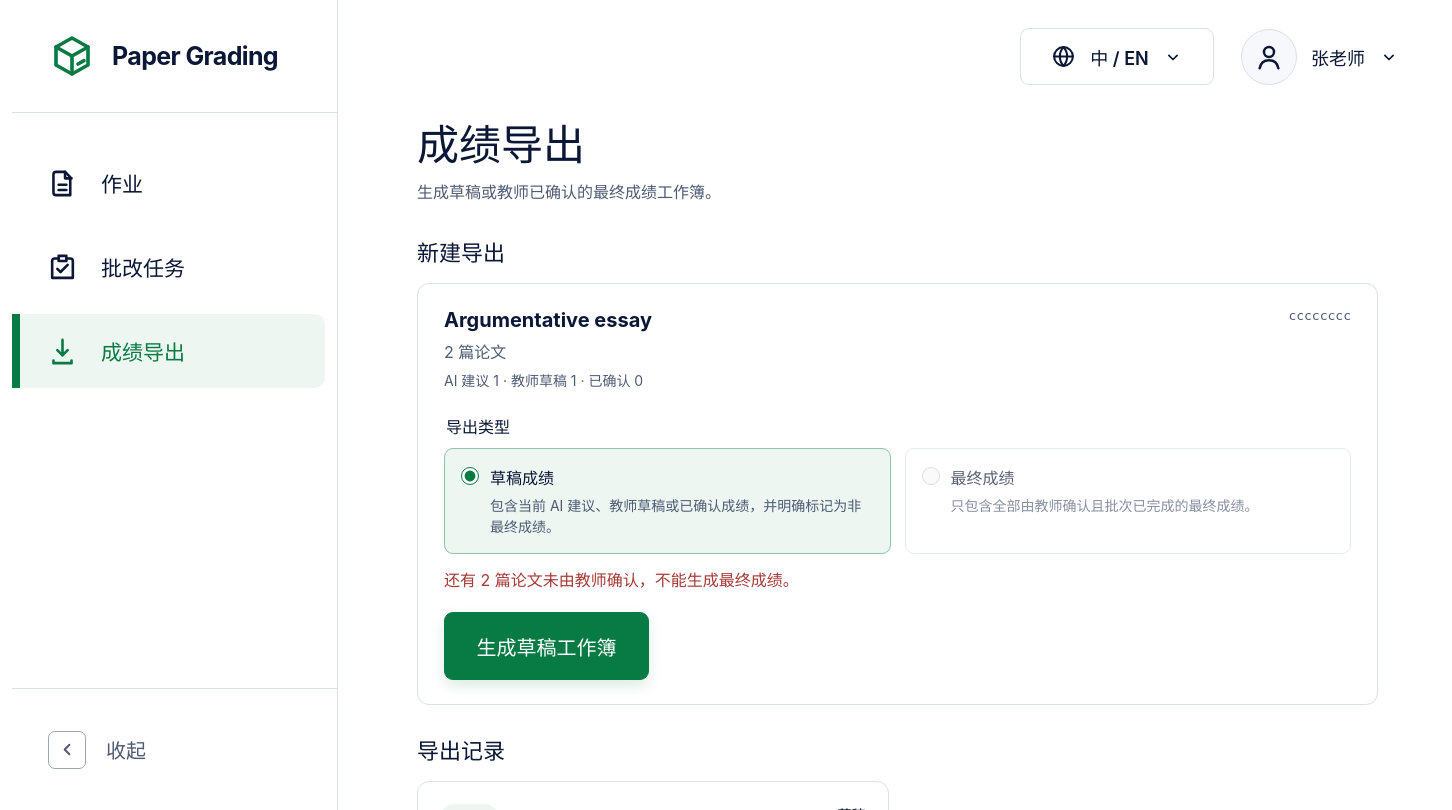
stage 12 exports › translates the queued message when the language changes
Click the button "生成草稿工作簿". click: [546, 646]
box: [444,612,649,680]
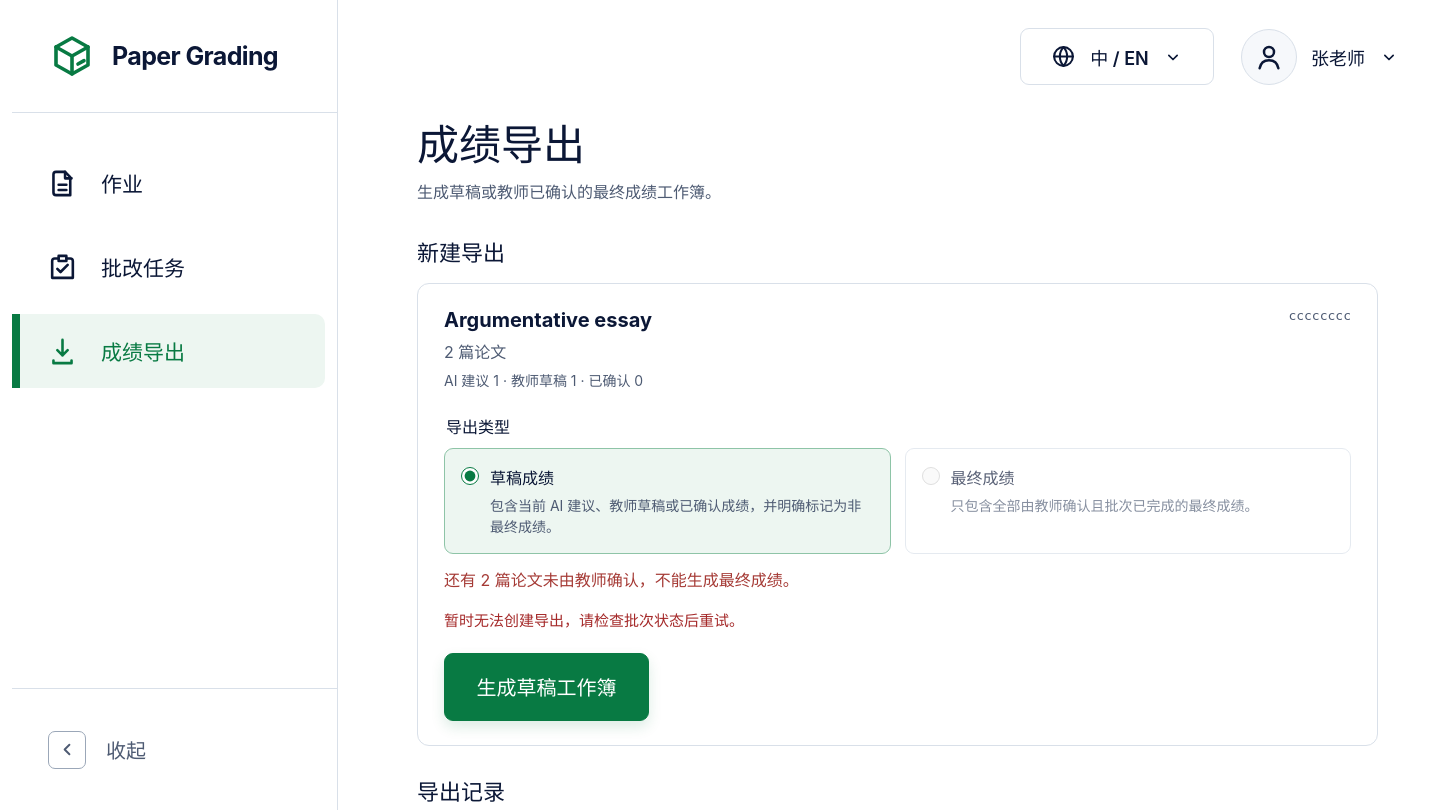
Expected: the message shows "暂时无法创建导出", [444,611,744,630]
Click the button "生成草稿工作簿". click: [546, 687]
box: [444,653,649,721]
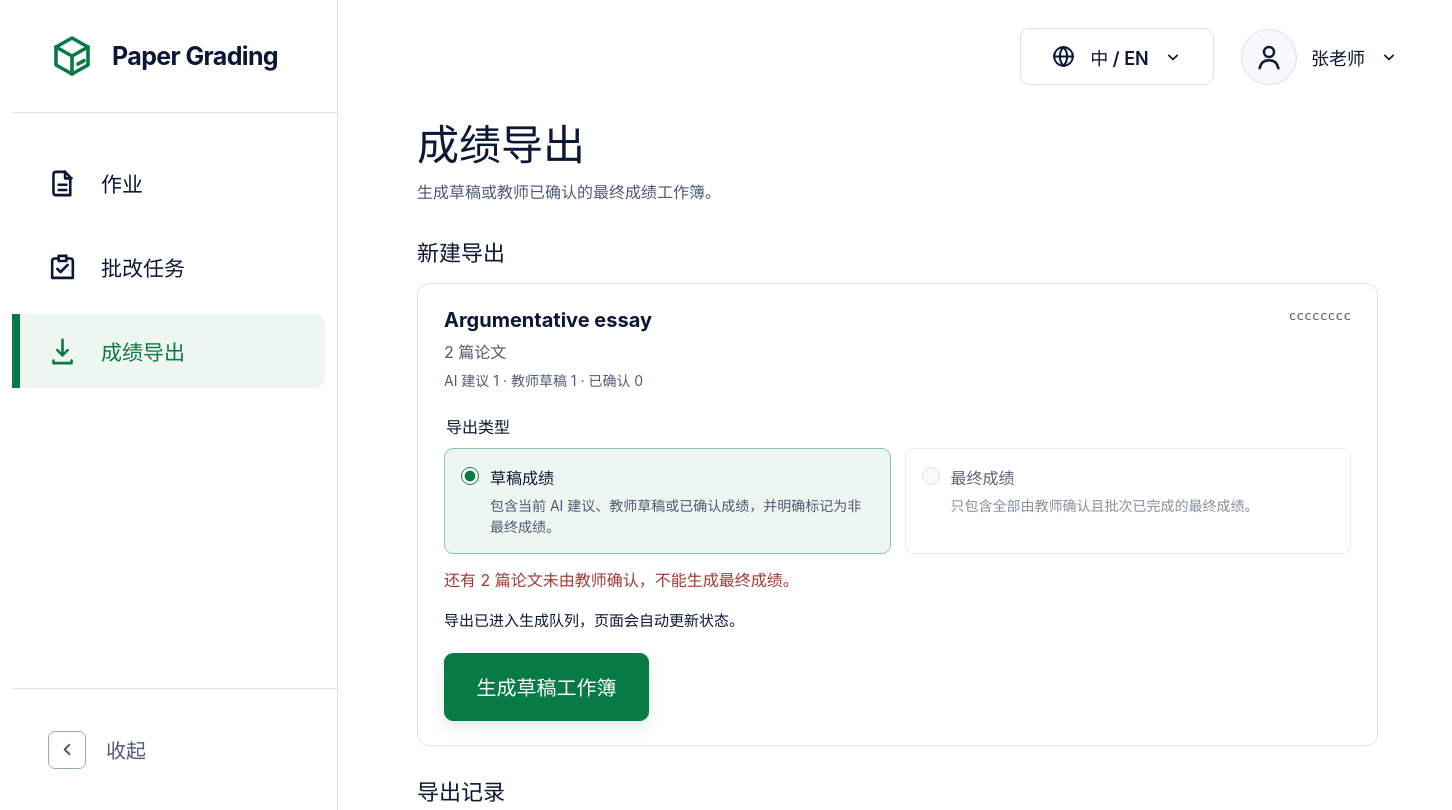
Expected: the message shows "导出已进入生成队列", [444,611,744,630]
Click the button with aria-label "Switch to English". click: [1117, 56]
box: [1020,28,1214,85]
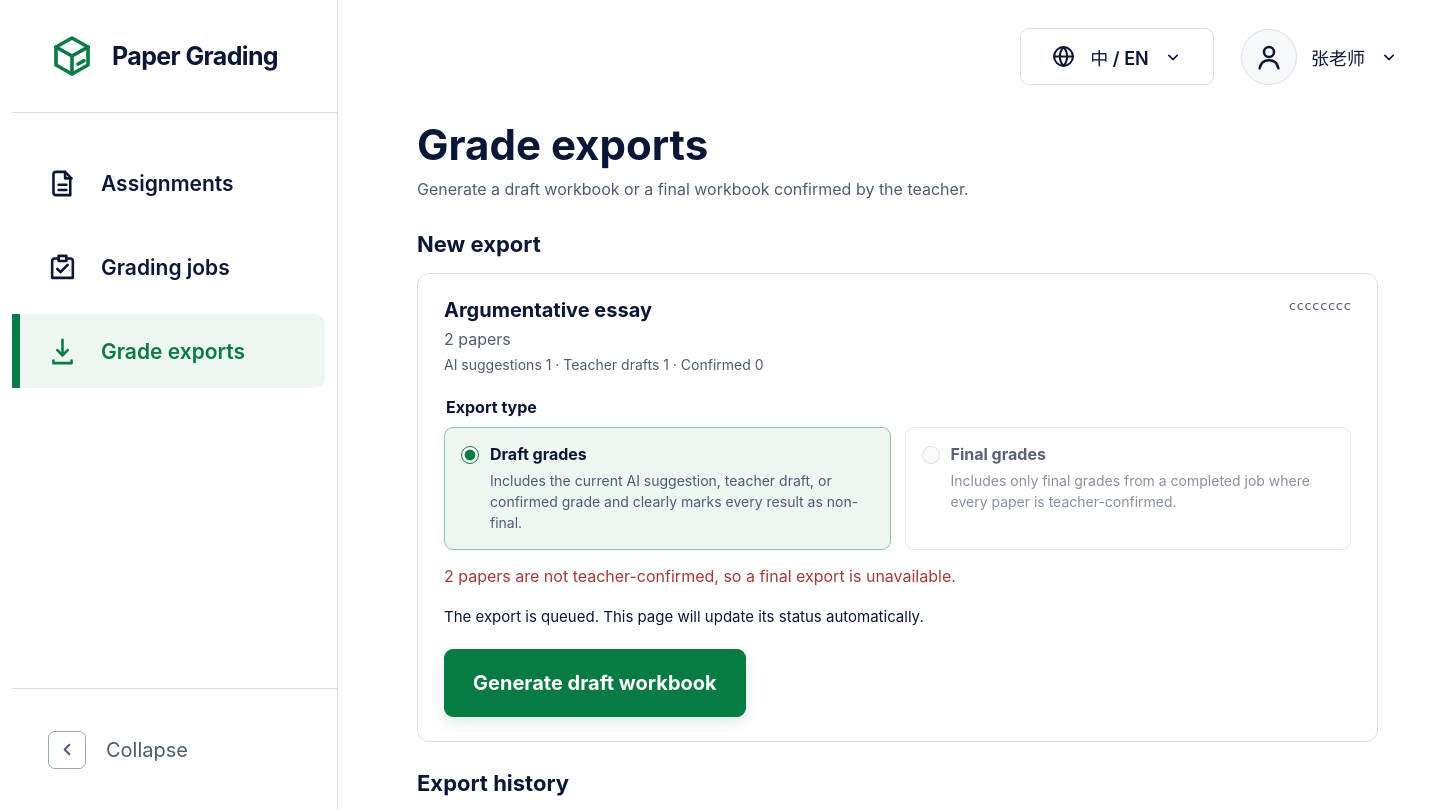
Expected: the message shows "The export is queued", [444,607,924,626]
